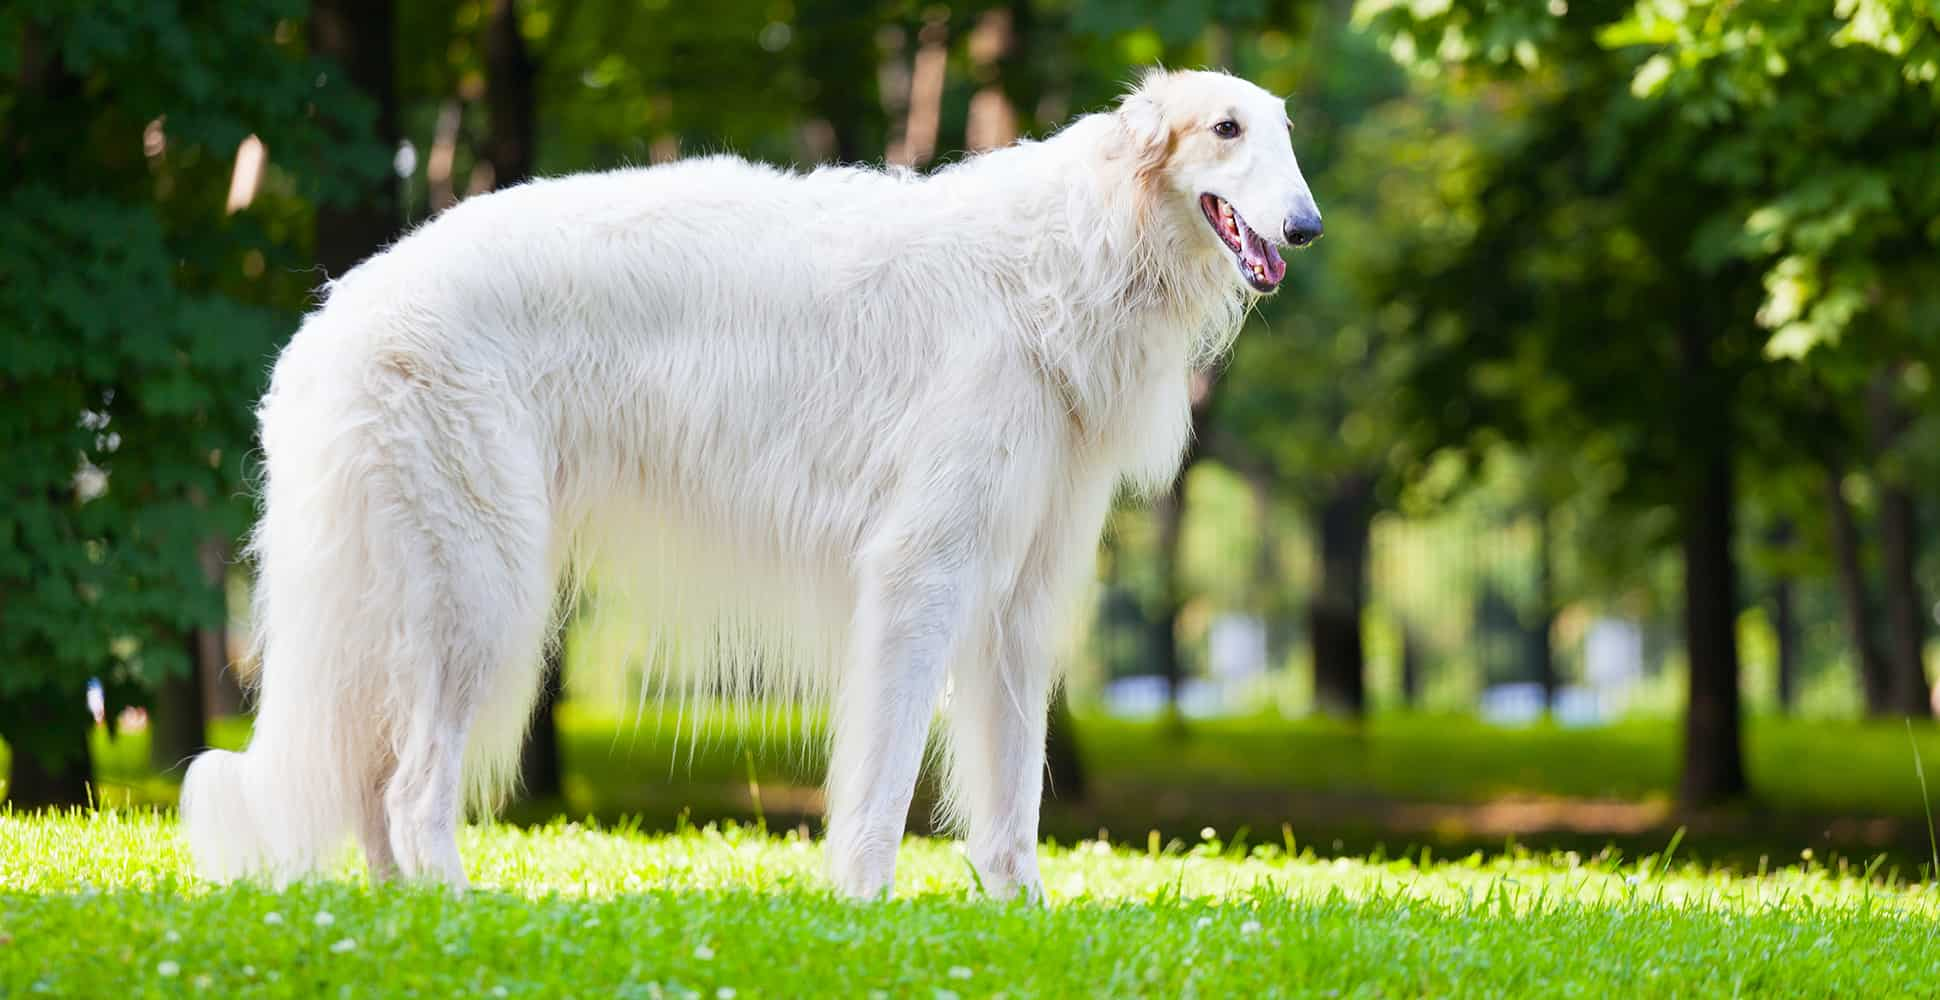borzoi: (149, 62, 1371, 892)
